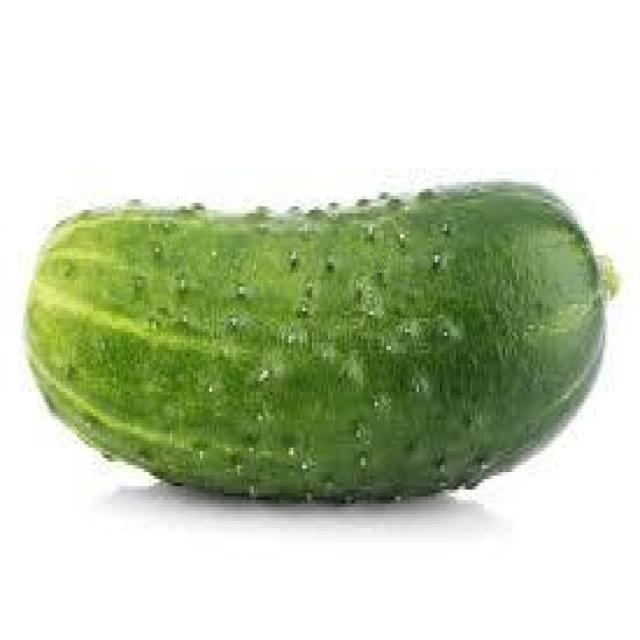organic: (23, 182, 612, 507)
